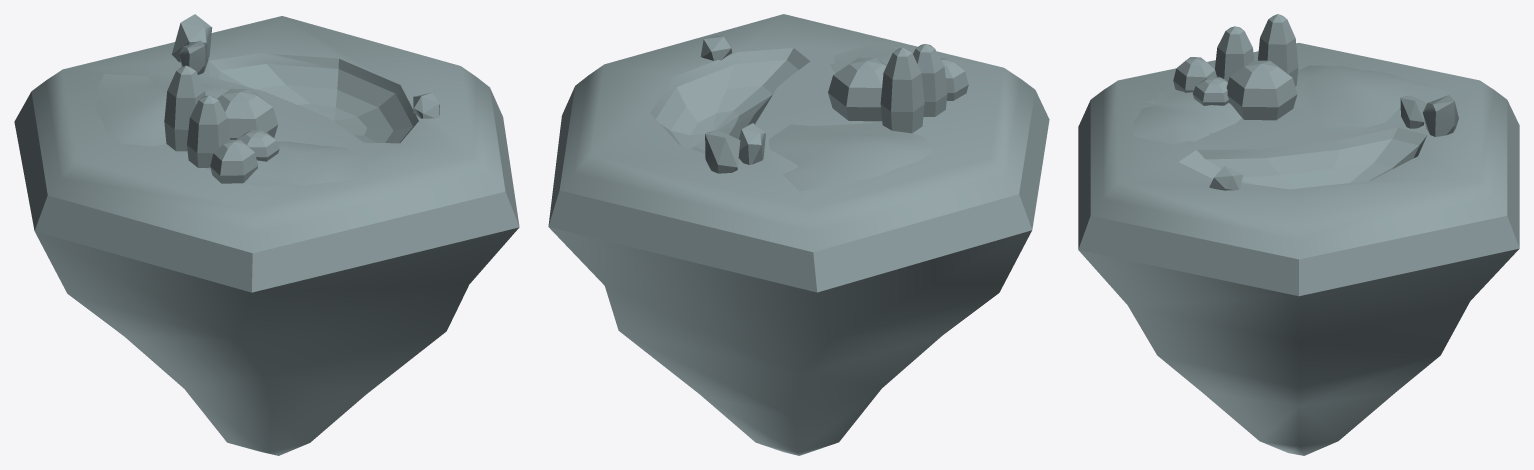
The model's file is islet-2.fbx.
3 views of the same model, side by side, from view 1: azimuth 30°, elevation 25°; view 2: azimuth 150°, elevation 25°; view 3: azimuth 270°, elevation 25° (orthographic). The views are drawn at different scales.
Visible parts, largest first — view 1: polySurface557; view 2: polySurface557; view 3: polySurface557.
Boxes of the visible parts, x1,y1,x2,y2 form: polySurface557: [14, 14, 519, 455]; polySurface557: [548, 14, 1049, 455]; polySurface557: [1078, 14, 1519, 455].
Size of the model in its own units: 11.53 by 9.84 by 9.99.
